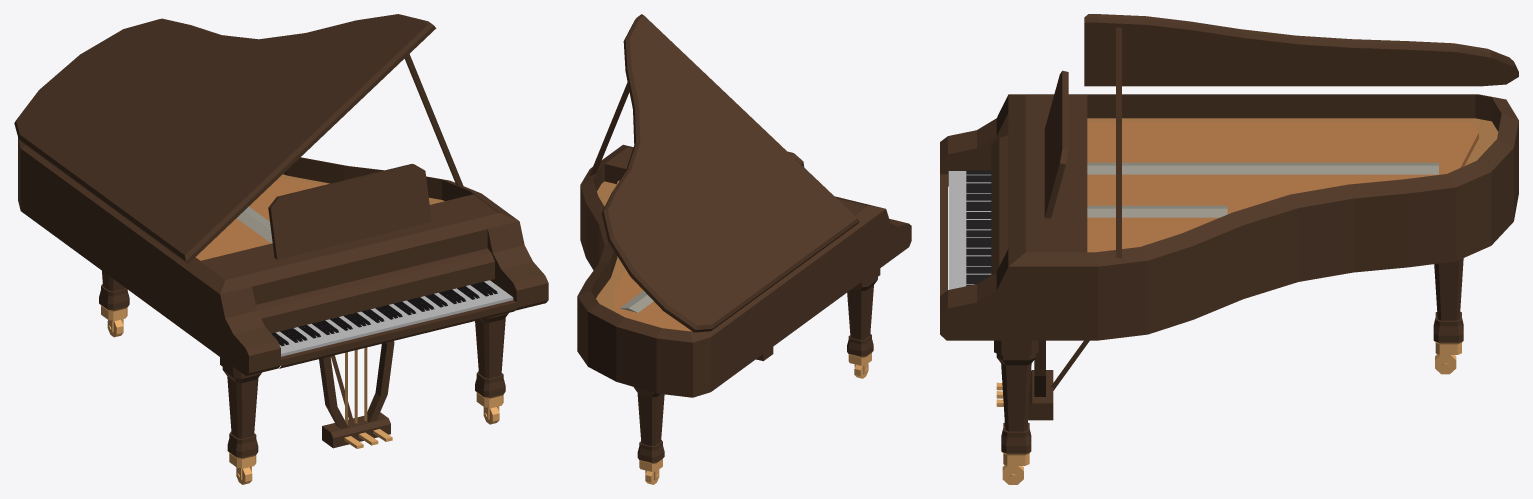
File: concert-grand-piano-85c5b1.glb
The picture shows the model from 3 angles, left to right: view 1: azimuth 30°, elevation 25°; view 2: azimuth 150°, elevation 25°; view 3: azimuth 270°, elevation 25°; orthographic projection. The views are drawn at different scales.
Visible parts, largest first — view 1: piano-body, lid-panel, music-desk-mesh, piano-body-metal; view 2: lid-panel, piano-body, piano-body-metal; view 3: piano-body, piano-body-metal, lid-panel, music-desk-mesh.
Part boxes in pixels (bbox=[...]): piano-body: bbox=[18, 54, 548, 457]; lid-panel: bbox=[14, 14, 436, 263]; music-desk-mesh: bbox=[268, 164, 431, 259]; piano-body-metal: bbox=[100, 178, 503, 484]; lid-panel: bbox=[601, 14, 859, 332]; piano-body: bbox=[577, 82, 911, 462]; piano-body-metal: bbox=[614, 180, 872, 484]; piano-body: bbox=[940, 27, 1518, 453]; piano-body-metal: bbox=[1002, 121, 1478, 484]; lid-panel: bbox=[1084, 14, 1518, 86]; music-desk-mesh: bbox=[1044, 70, 1068, 218].
Bounding box in the file's own units: 1.56 × 1.89 × 2.2.
